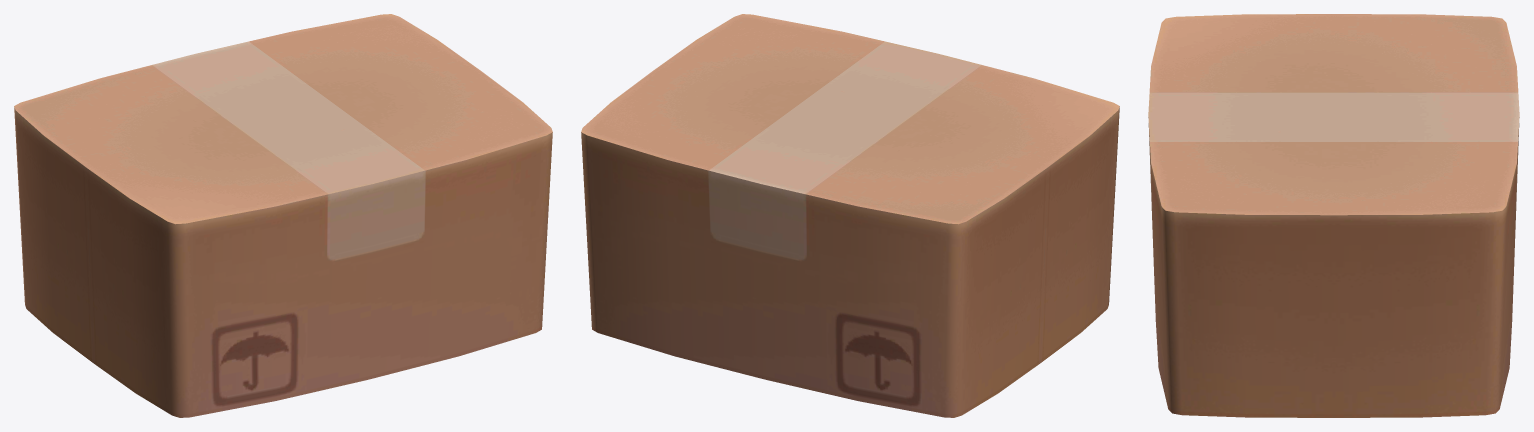
File: carton_boxes4.fbx
3 views of the same model, side by side, from view 1: azimuth 30°, elevation 25°; view 2: azimuth 150°, elevation 25°; view 3: azimuth 270°, elevation 25° (orthographic). The views are drawn at different scales.
Parts seen in each view (by area): view 1: carton_boxes4; view 2: carton_boxes4; view 3: carton_boxes4.
Boxes of the visible parts, left/top/right/bottom form: carton_boxes4: left=14, top=14, right=552, bottom=417; carton_boxes4: left=581, top=14, right=1119, bottom=417; carton_boxes4: left=1148, top=14, right=1519, bottom=417.
Size of the model in its own units: 146 by 69.92 by 114.
Materials: 1 (1 with a texture image).
